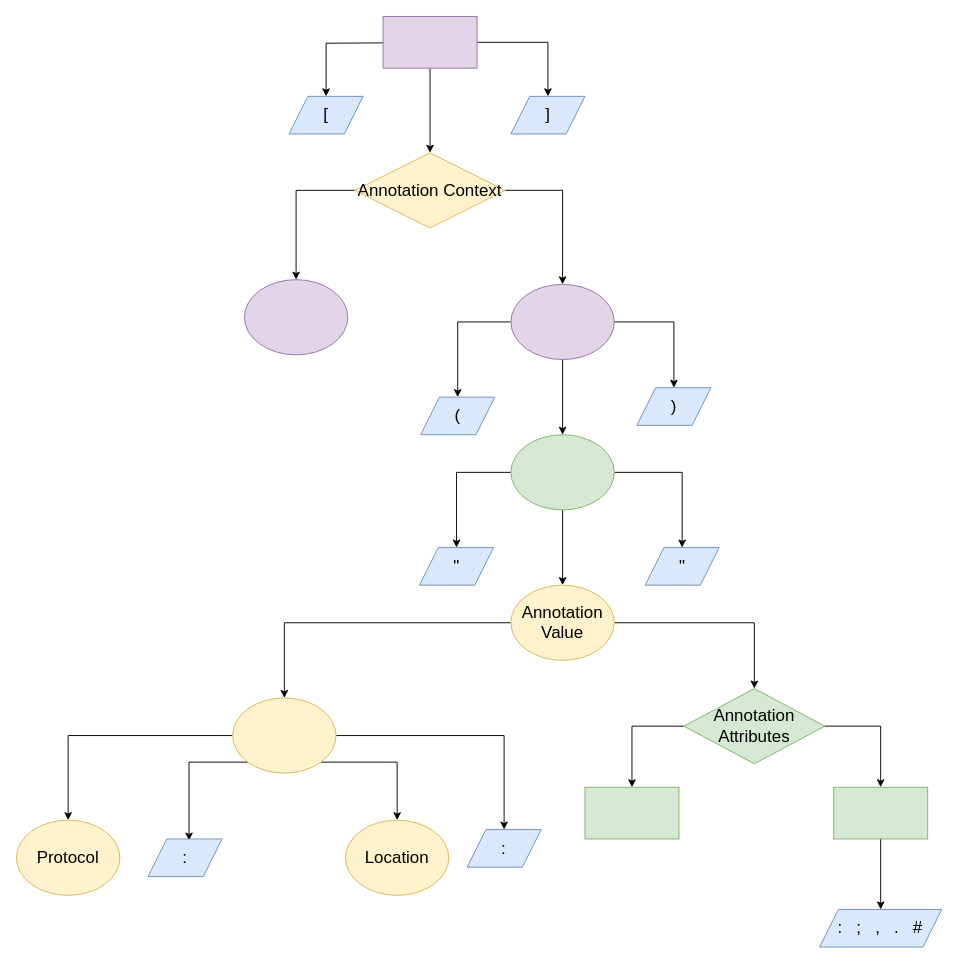
The diagram is 959 pixels wide and 964 high, and some of its shapes have lost their labels. The centre of each missing label's shape, as x and y in pixels:
"Annotation" goes at (x=429, y=42).
"Annotation Body" goes at (x=562, y=321).
"Annotation Data" goes at (x=631, y=812).
"Annotation Definition" goes at (x=562, y=472).
"Annotation Seperator" goes at (x=880, y=812).
"Annotation Type" goes at (x=295, y=317).
"URL Attributes" goes at (x=284, y=735).
